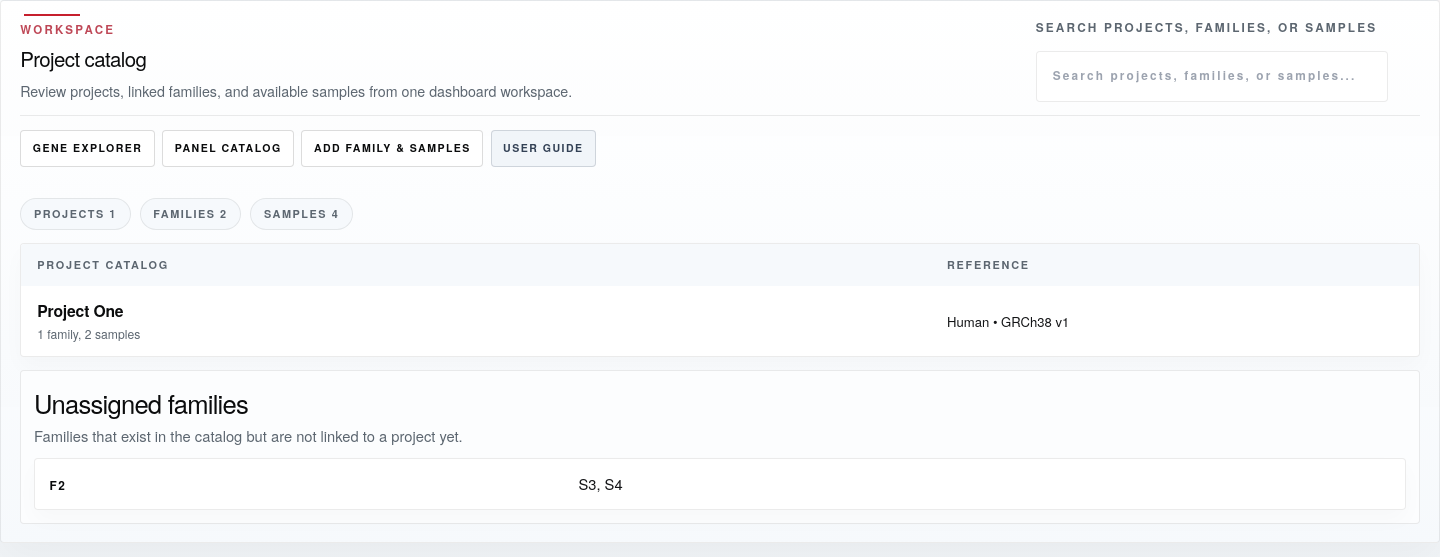
Test: Dashboard admin section › shows the linked family when searching by family id
This screenshot has width=1440, height=557.
Check: the button "Project One 1 family, 2 samples" is shown, box 37,299 -> 915,343
In the field labelled "Search projects, families, or samples": [1212, 76] box 1036,51 -> 1388,102, type "F1"
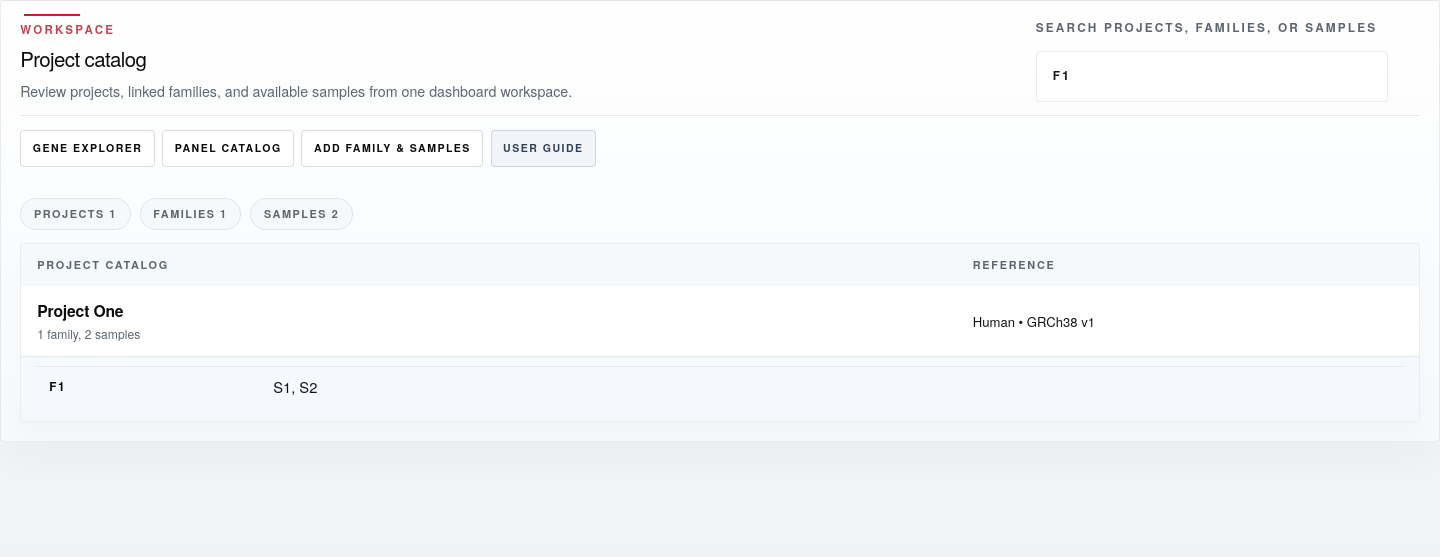
Check: the button "Project One 1 family, 2 samples" is shown, box 37,299 -> 941,343
Check: the link "F1" is shown, box 49,378 -> 66,395
